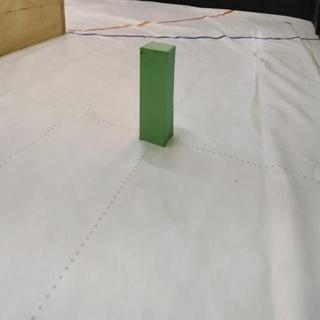greenbox: (137, 40, 177, 149)
